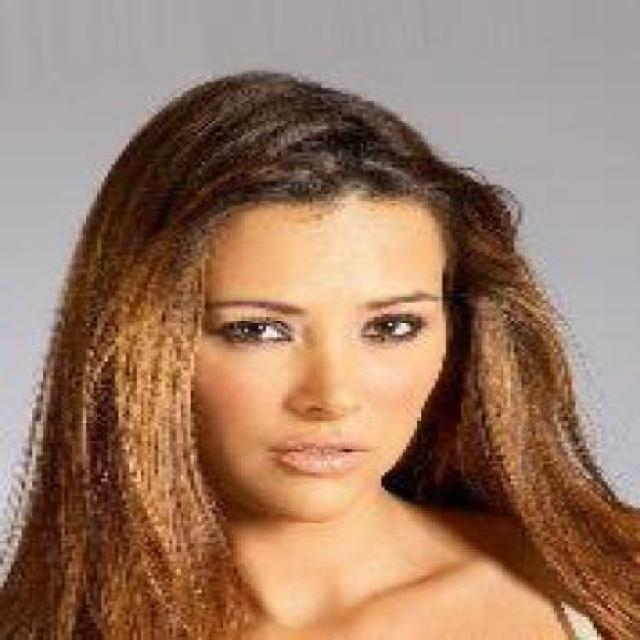closed-mouth: (272, 434, 374, 471)
